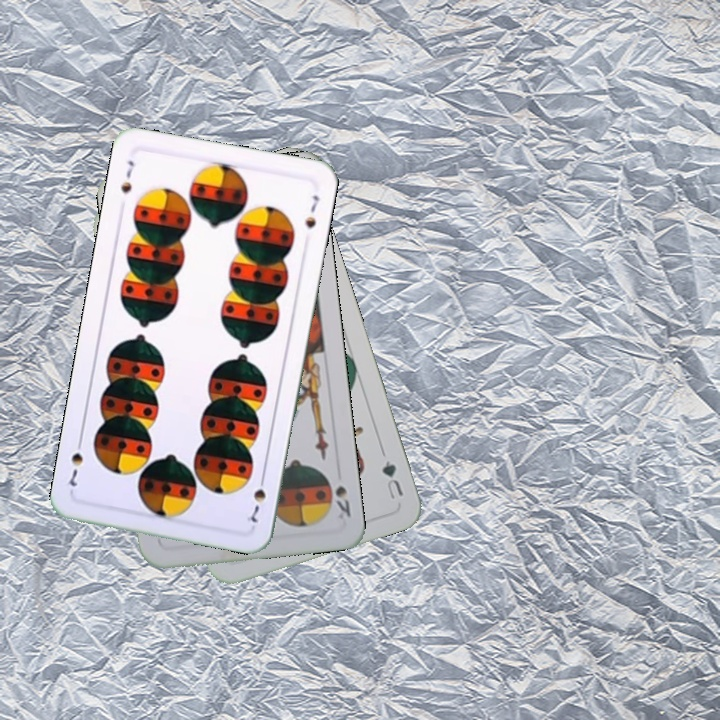GU: (377, 456, 406, 502)
S7: (242, 470, 269, 526), (117, 156, 137, 196)
SK: (331, 481, 353, 522)
